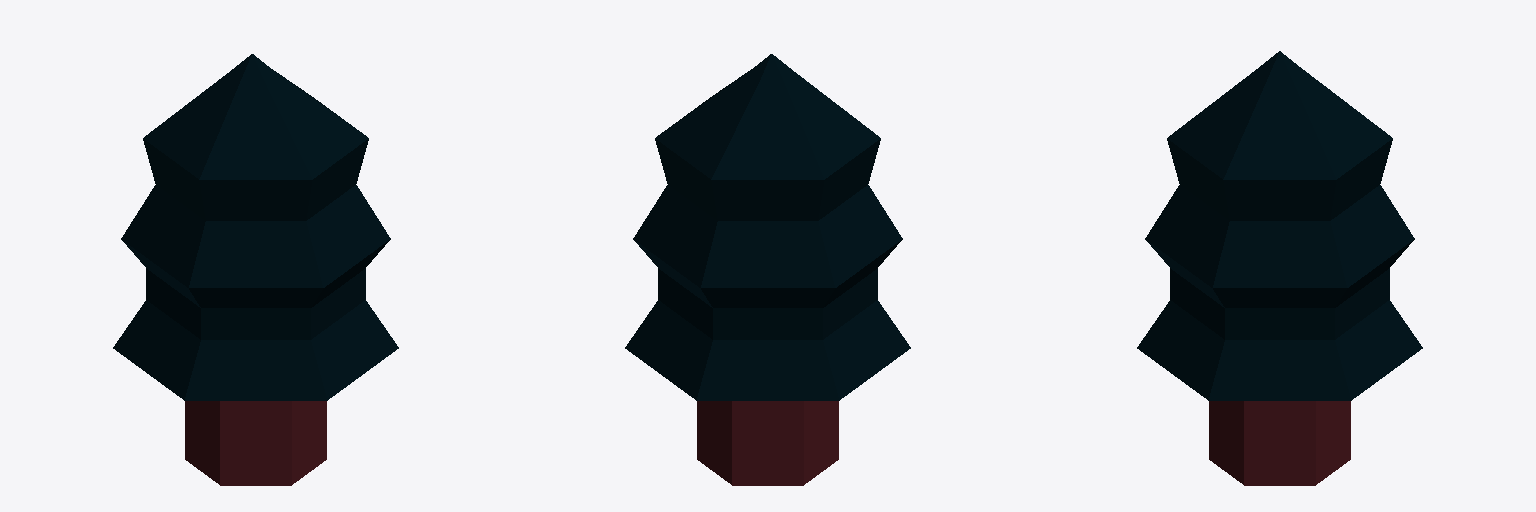
The model's file is Arbol.obj.
3 renders of one model, left to right at view 1: azimuth 30°, elevation 25°; view 2: azimuth 150°, elevation 25°; view 3: azimuth 270°, elevation 25°, orthographic.
Visible parts, largest first — view 1: Arbol; view 2: Arbol; view 3: Arbol.
Part boxes in pixels (x1,y1,x2,y2): Arbol: (113,54,398,485); Arbol: (625,54,910,485); Arbol: (1137,51,1422,485).
Size of the model in its own units: 3.48 by 6.3 by 4.02.